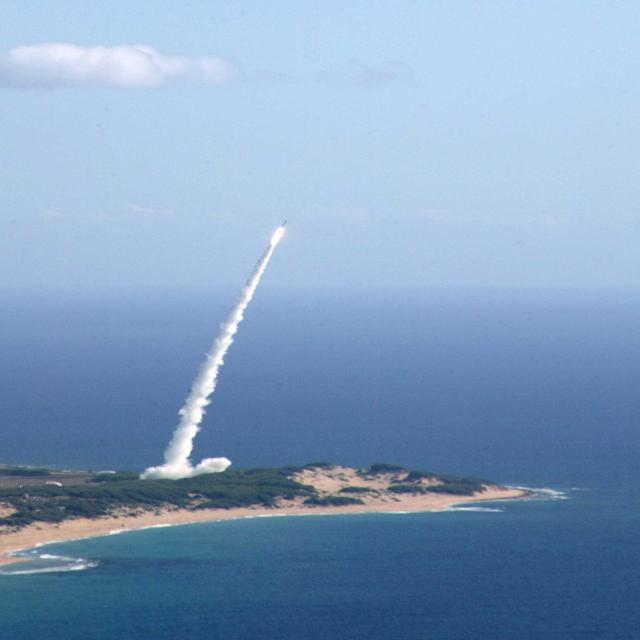missile: (282, 220, 287, 228)
